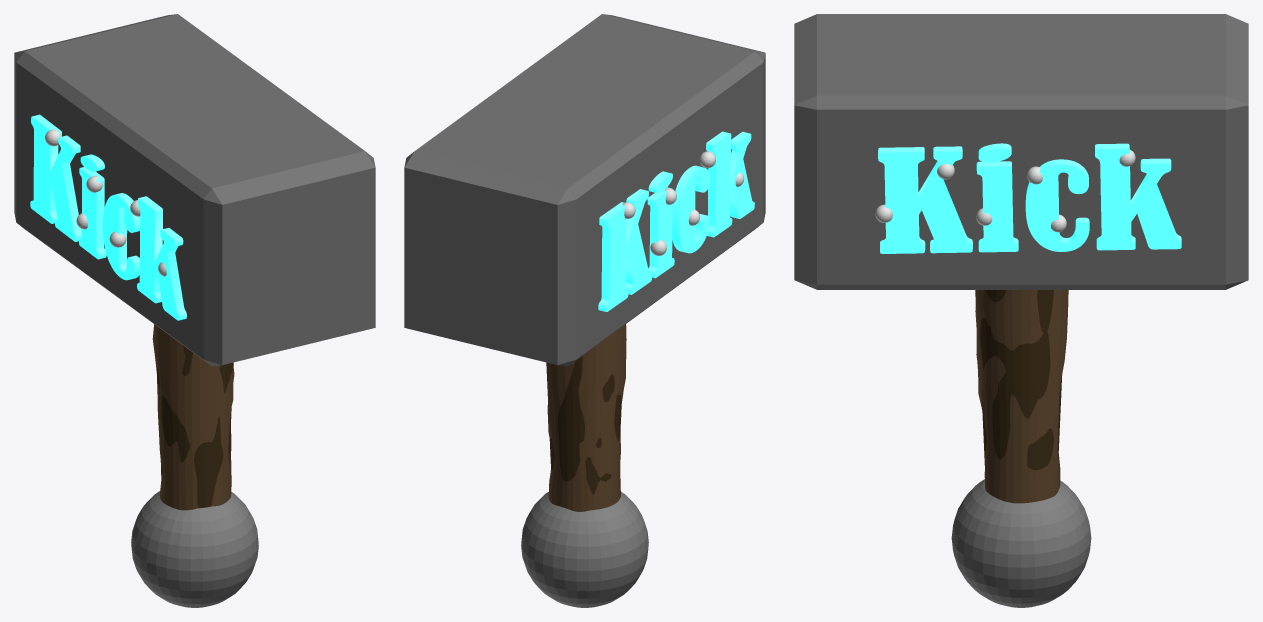
Rendered from kick_bye_bye_pp (1).fbx.
3 renders of one model, left to right at view 1: azimuth 30°, elevation 25°; view 2: azimuth 150°, elevation 25°; view 3: azimuth 270°, elevation 25°, orthographic. The views are drawn at different scales.
Visible parts, largest first — view 1: Cube, Text.001, Sphere, Cylinder, Cylinder.001, Sphere.001; view 2: Cube, Text.001, Sphere, Cylinder, Cylinder.001, Sphere.001; view 3: Cube, Text, Sphere, Cylinder, Cylinder.001, Sphere.003.
Boxes of the visible parts, <box> form: Cube: <box>14,14,375,366</box>; Text.001: <box>30,114,186,320</box>; Sphere: <box>131,491,258,607</box>; Cylinder: <box>152,324,234,510</box>; Cylinder.001: <box>157,345,233,508</box>; Sphere.001: <box>45,129,166,276</box>; Cube: <box>404,14,765,366</box>; Text.001: <box>598,131,754,311</box>; Sphere: <box>521,491,648,607</box>; Cylinder: <box>547,324,626,511</box>; Cylinder.001: <box>546,356,621,494</box>; Sphere.001: <box>622,151,743,255</box>; Cube: <box>794,14,1248,289</box>; Text: <box>878,143,1181,253</box>; Sphere: <box>951,479,1091,607</box>; Cylinder: <box>975,290,1068,503</box>; Cylinder.001: <box>979,290,1062,470</box>; Sphere.003: <box>875,149,1135,232</box>.
Bounding box in the file's own units: 358 × 863 × 650.
